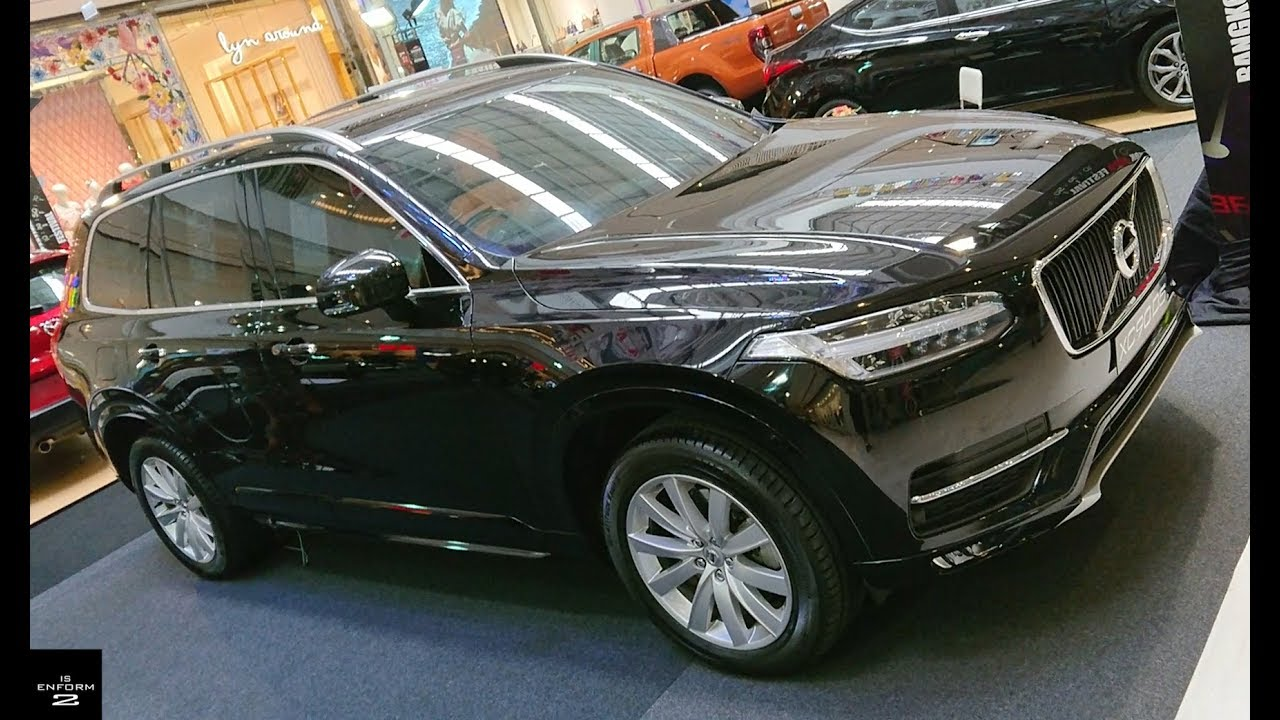pickup: (59, 49, 1204, 677)
